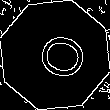O_W: (24, 27, 86, 83)
